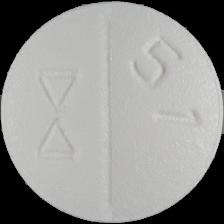63629-4688: (0, 0, 224, 224)
